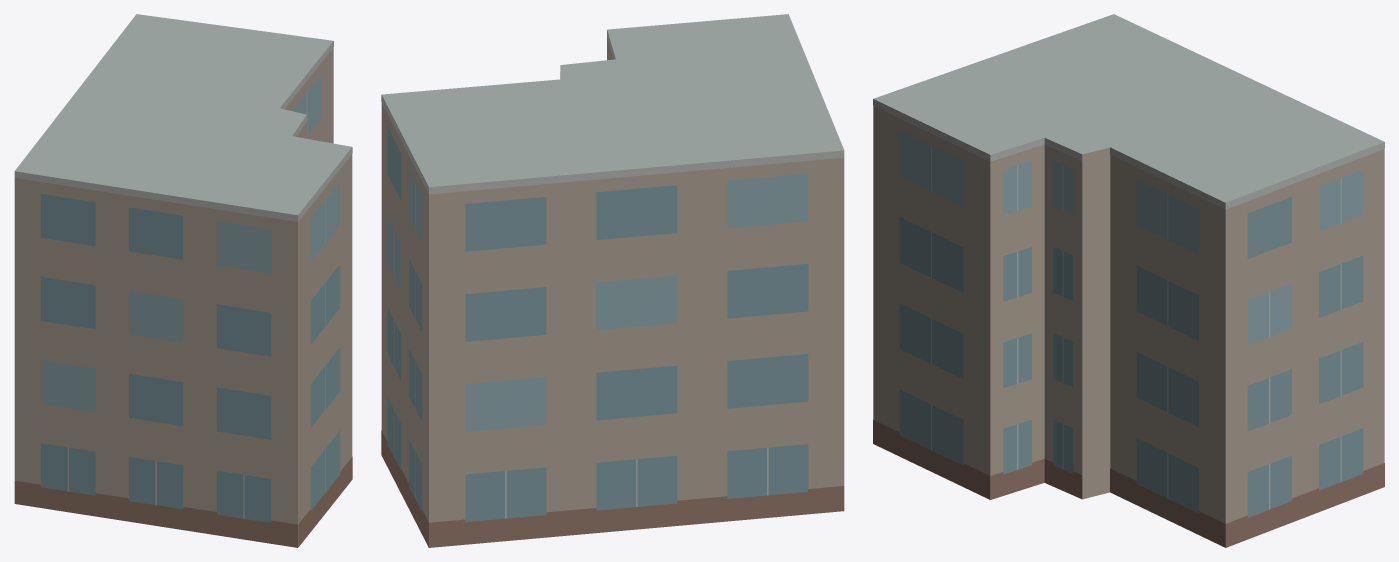
File: survey-upis-32995977.glb
3 renders of one model, left to right at view 1: azimuth 30°, elevation 25°; view 2: azimuth 150°, elevation 25°; view 3: azimuth 270°, elevation 25°, orthographic. The views are drawn at different scales.
Visible parts, largest first — view 1: survey-upis-32995977.tmp; view 2: survey-upis-32995977.tmp; view 3: survey-upis-32995977.tmp.
Boxes of the visible parts, x1,y1,x2,y2 form: survey-upis-32995977.tmp: (14, 14, 352, 547); survey-upis-32995977.tmp: (381, 14, 844, 547); survey-upis-32995977.tmp: (873, 14, 1384, 547).
Size of the model in its own units: 14.33 by 12.2 by 16.41.
